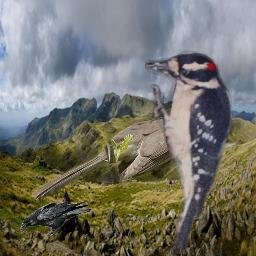Crow: (20, 201, 92, 236)
Cuckoo: (31, 98, 222, 200)
Woodpecker: (145, 48, 236, 254)
